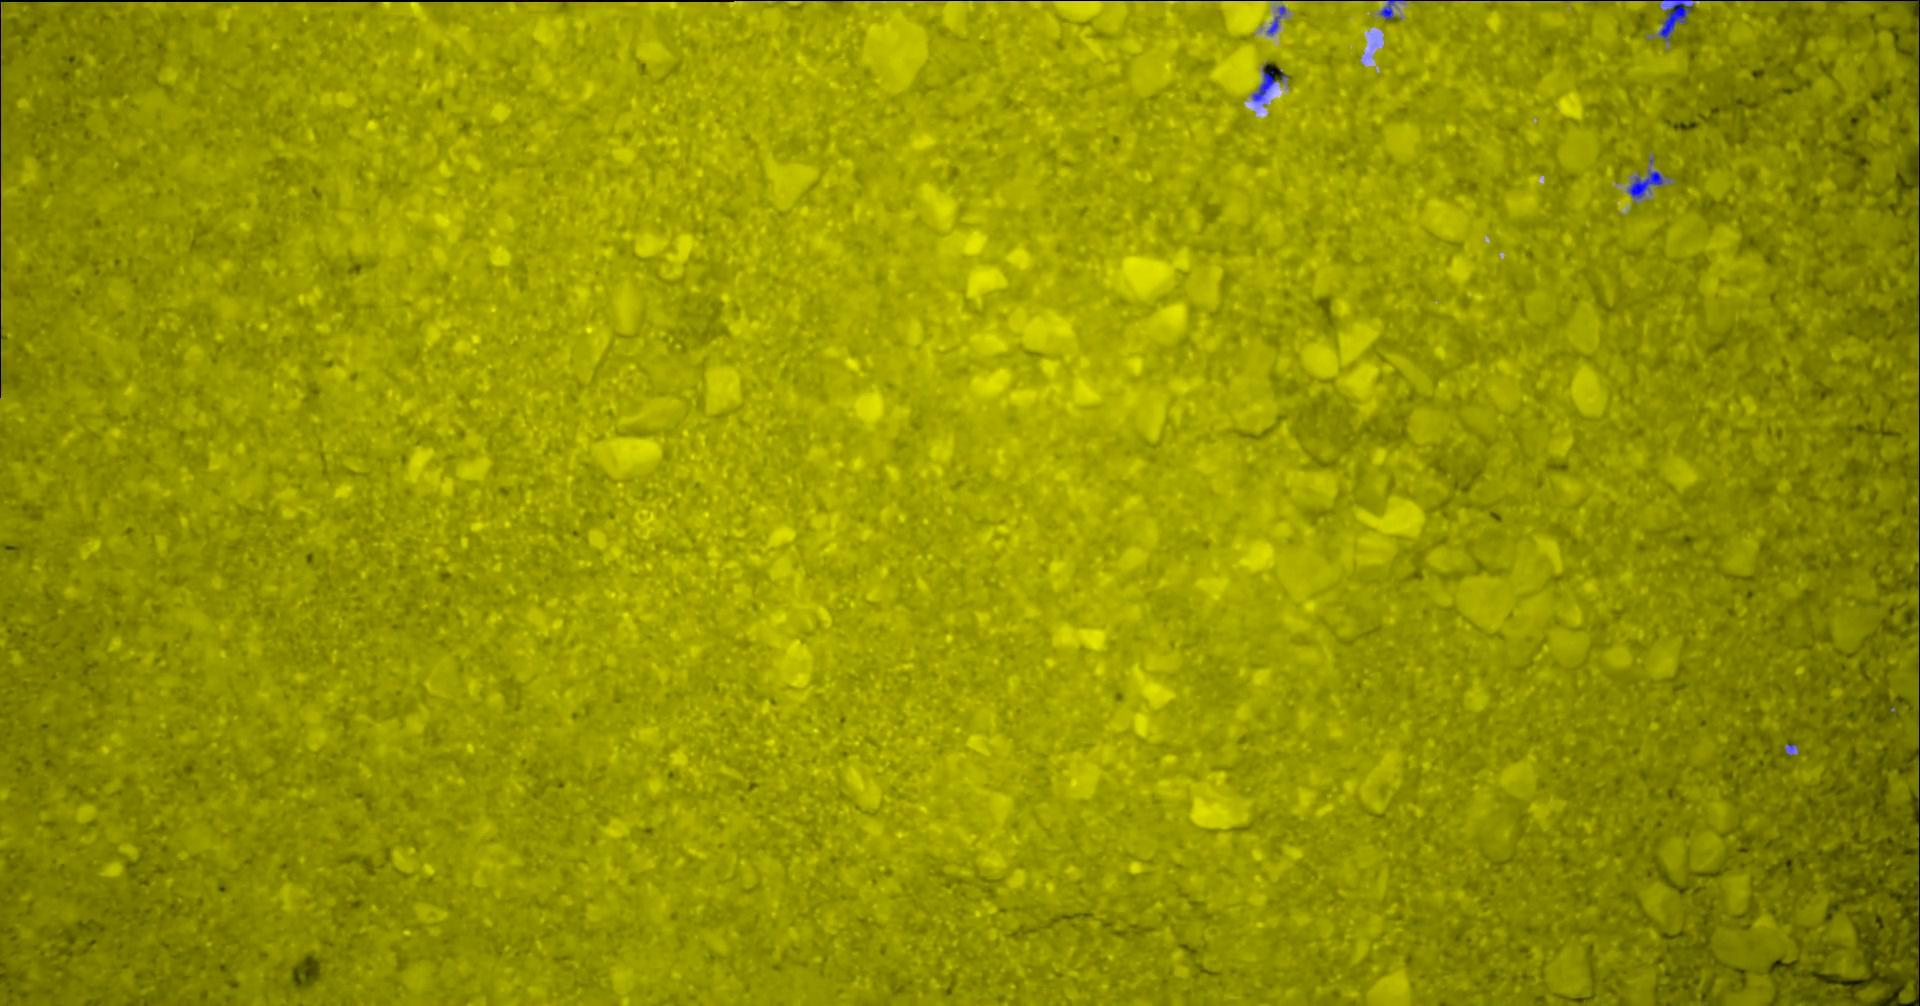ant: (1660, 0, 1694, 41), (1629, 169, 1665, 198), (1253, 64, 1277, 102), (1269, 5, 1288, 34), (1382, 0, 1406, 19)
